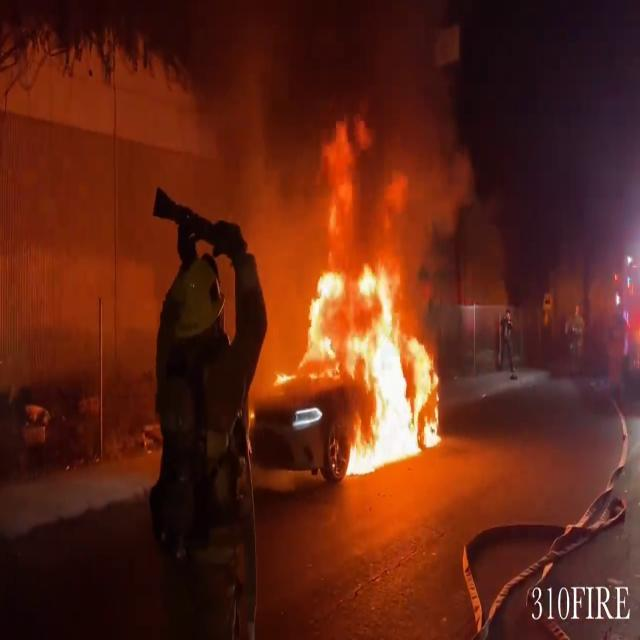Fire: (282, 223, 448, 474)
Smoke: (192, 0, 476, 262)
